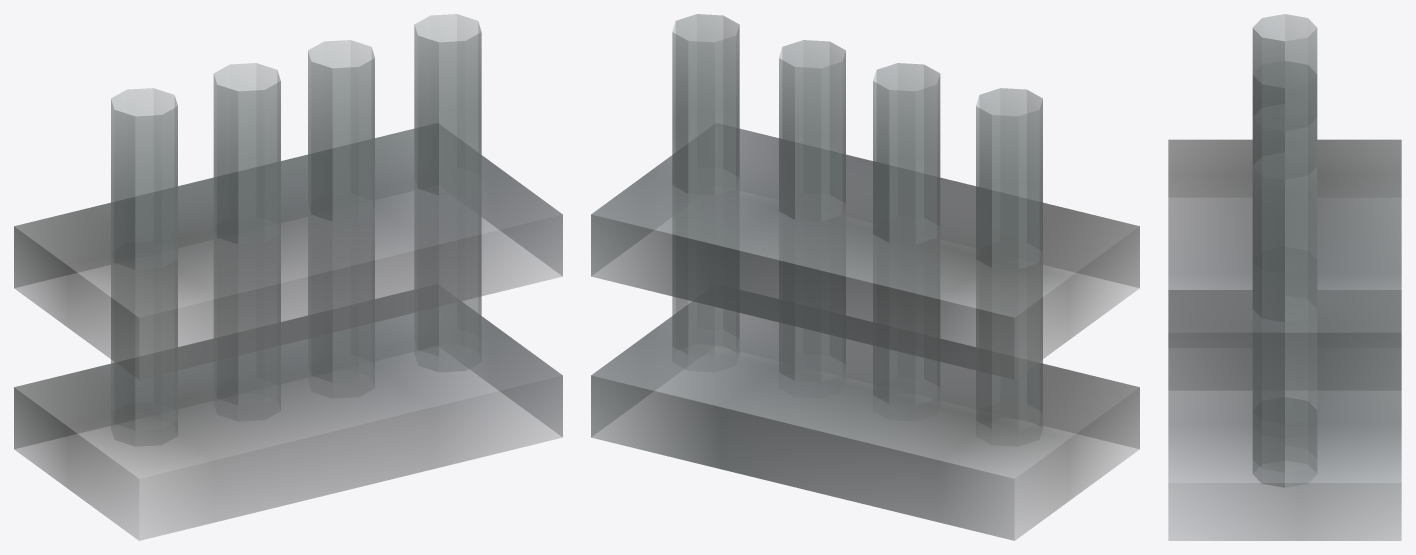
File: test-tube-rack.gltf
The picture shows the model from 3 angles, left to right: view 1: azimuth 30°, elevation 25°; view 2: azimuth 150°, elevation 25°; view 3: azimuth 270°, elevation 25°; orthographic projection. The views are drawn at different scales.
Parts seen in each view (by area): view 1: test_tubes; view 2: test_tubes; view 3: test_tubes.
Boxes of the visible parts, box(x1,y1,x2,y2) form: test_tubes: box(14, 14, 562, 540); test_tubes: box(591, 14, 1139, 540); test_tubes: box(1168, 14, 1401, 540).
Bounding box in the file's own units: 0.202 × 0.1714 × 0.1033.
1 material, 1 textured.
